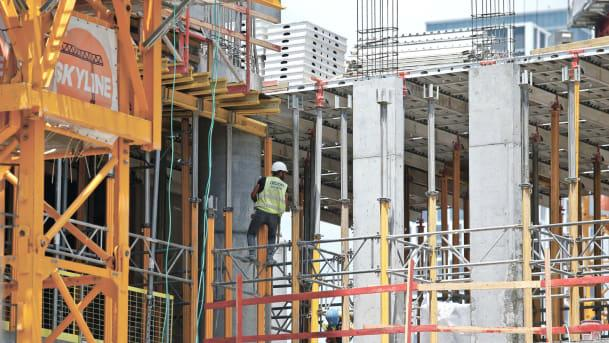helmet: (326, 307, 342, 327), (270, 162, 290, 175)
